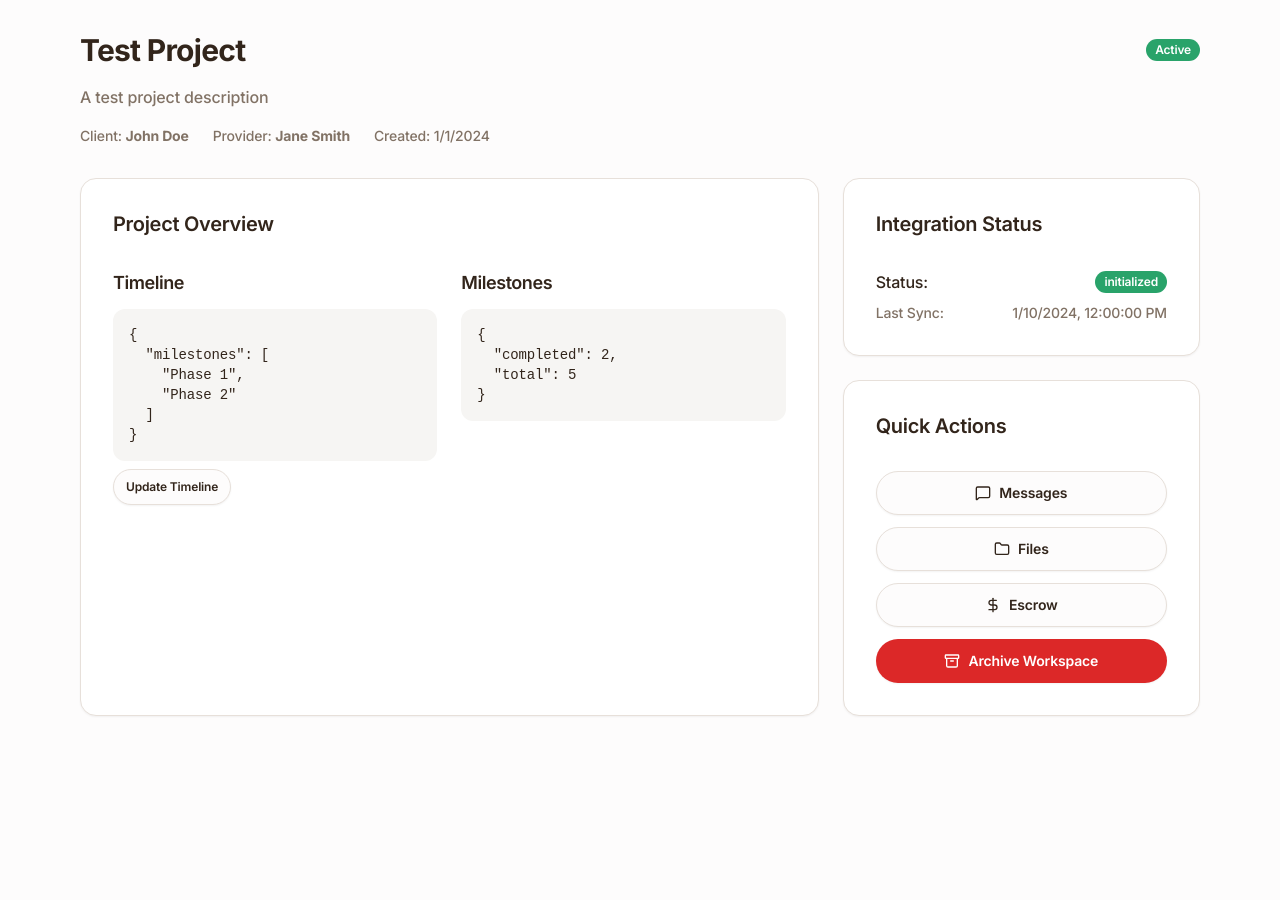
Scenario: WorkspaceDashboard › Update Timeline › displays error when timeline update throws exception
Click the button "Update Timeline".
click(172, 487)  # box [113,469,231,505]
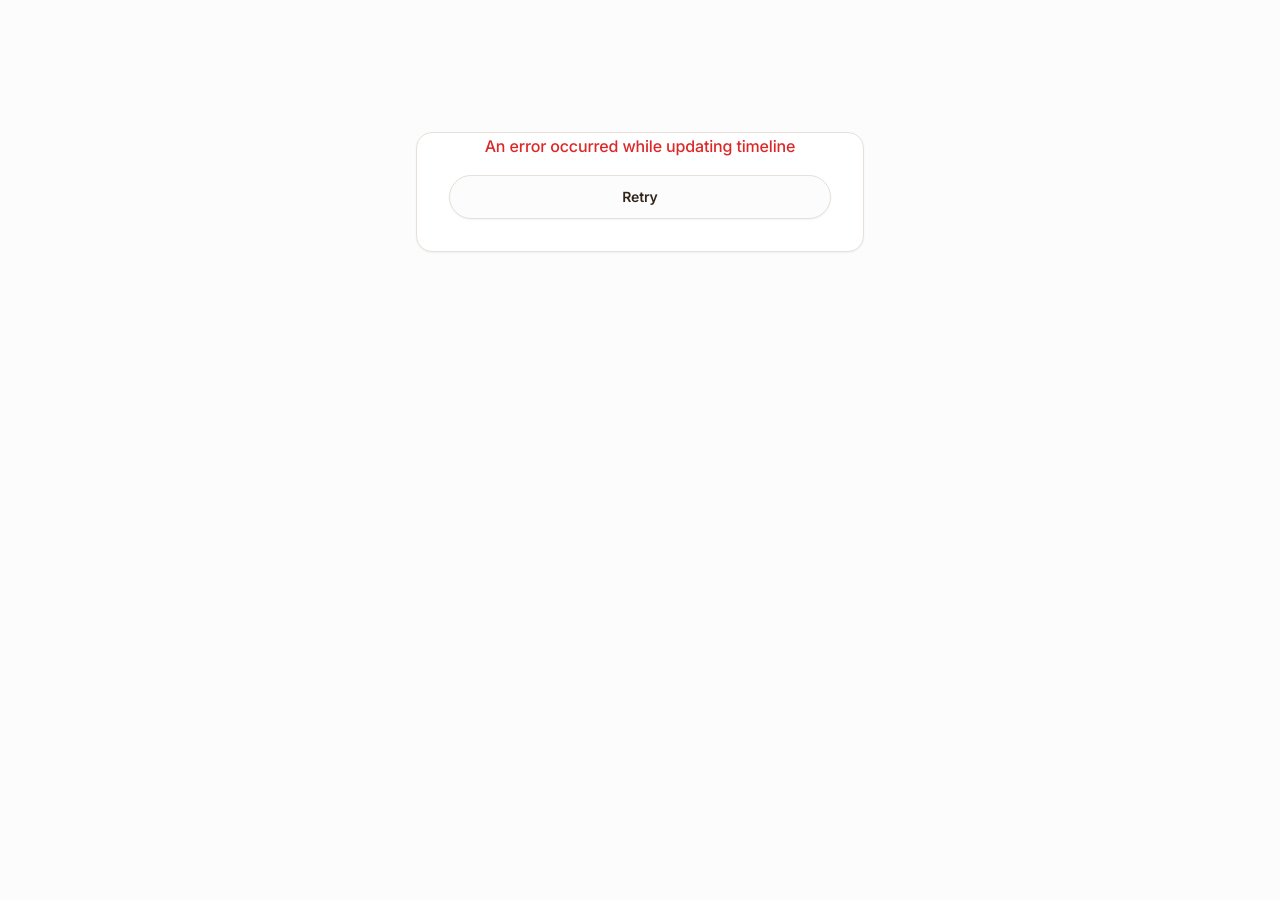
Now the text "An error occurred while updating timeline" is shown, box [485,136,795,156]
